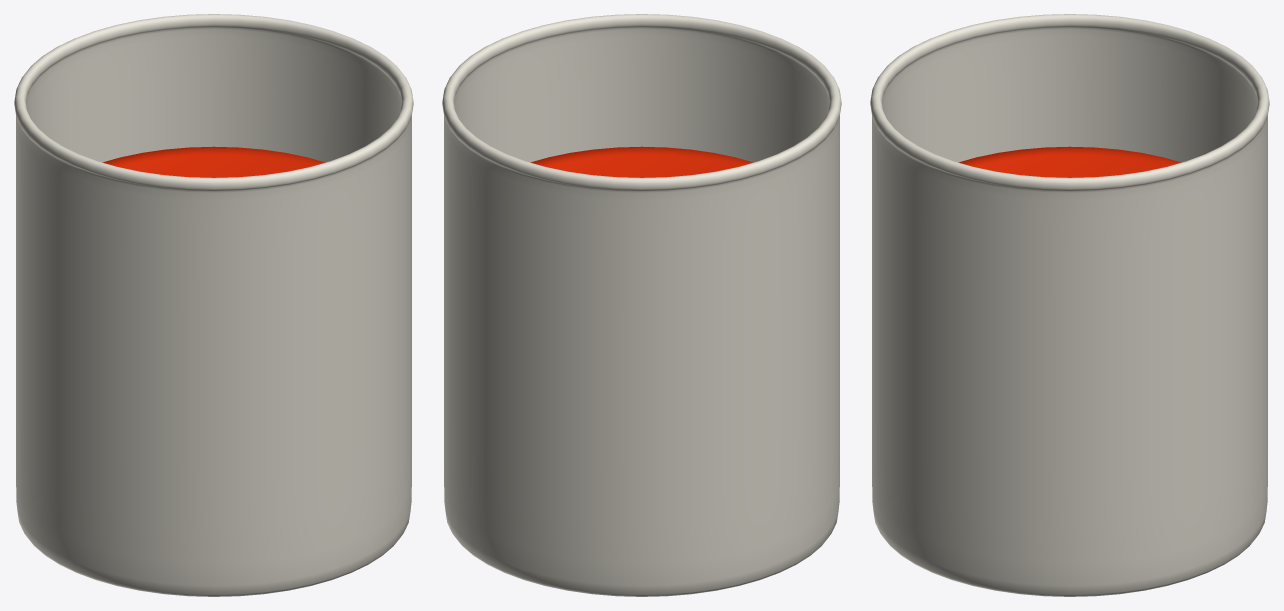
The model's file is pahar_negroni.fbx.
3 views of the same model, side by side, from view 1: azimuth 30°, elevation 25°; view 2: azimuth 150°, elevation 25°; view 3: azimuth 270°, elevation 25° (orthographic).
Parts seen in each view (by area): view 1: Cylinder.002, lichid.005; view 2: Cylinder.002, lichid.005; view 3: Cylinder.002, lichid.005.
Boxes of the visible parts, <box> form: Cylinder.002: <box>14,14,413,596</box>; lichid.005: <box>102,146,325,177</box>; Cylinder.002: <box>442,14,841,596</box>; lichid.005: <box>530,146,753,177</box>; Cylinder.002: <box>870,14,1269,596</box>; lichid.005: <box>958,146,1181,177</box>.
Bounding box in the file's own units: 6.71 × 7.8 × 6.71.
